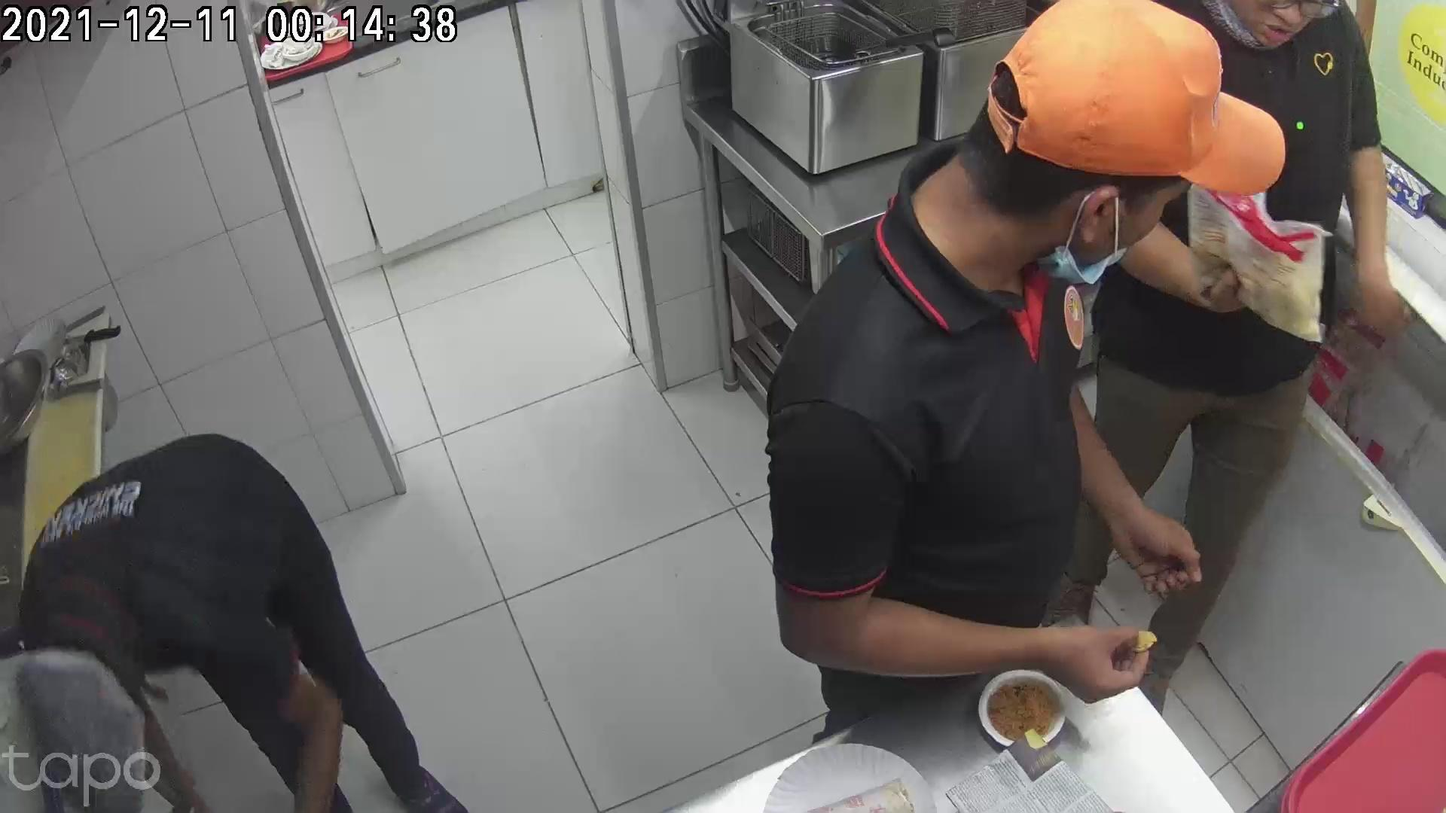no_gloves: (954, 443, 1010, 554)
